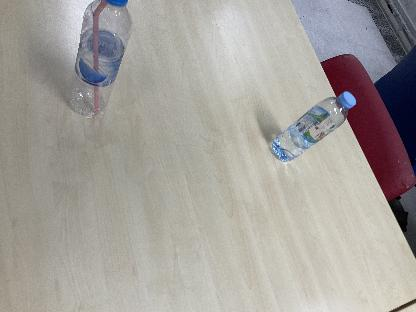Plastic Bottle: (68, 0, 134, 118), (270, 90, 356, 164)
